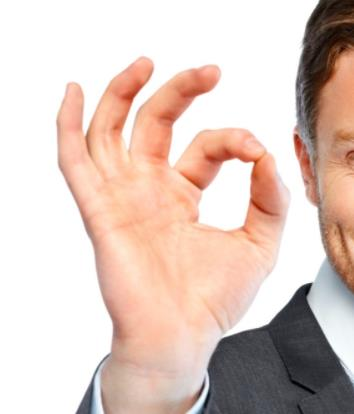left: (52, 53, 298, 356)
